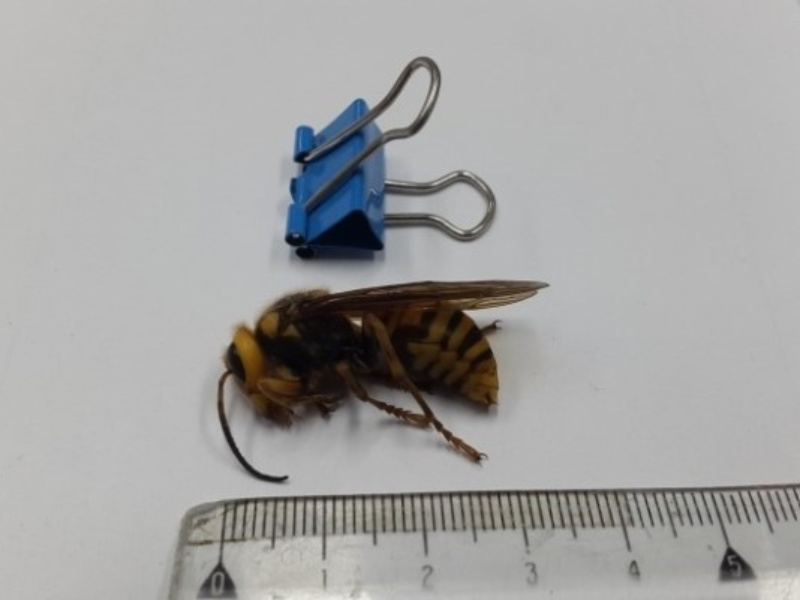asian_giant_hornet: (222, 276, 502, 426)
